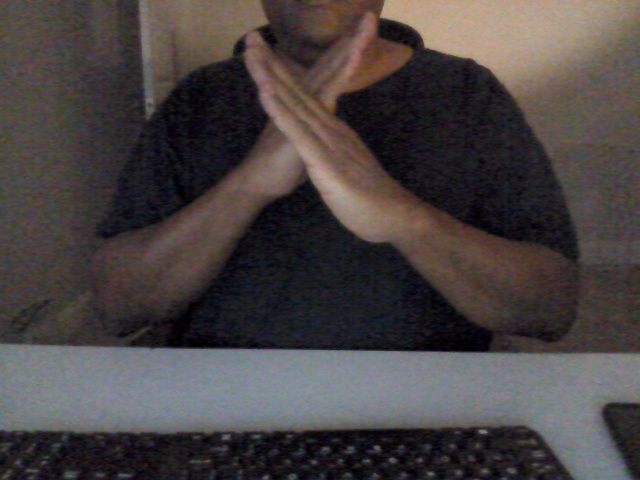quiet: (234, 8, 411, 246)
